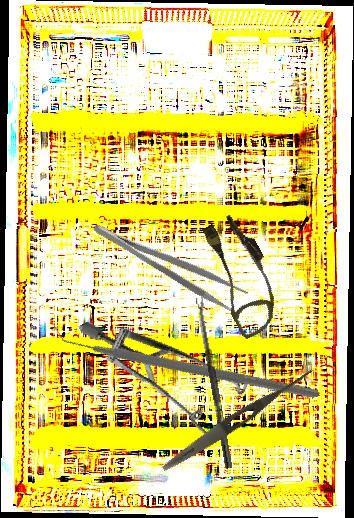Cannula: (189, 209, 295, 341)
Chopper: (52, 244, 320, 473)
Dressing Forceps: (89, 207, 252, 319), (158, 362, 318, 476)
Speculum: (78, 269, 265, 474)
Surgical Spoon: (195, 297, 234, 469)
